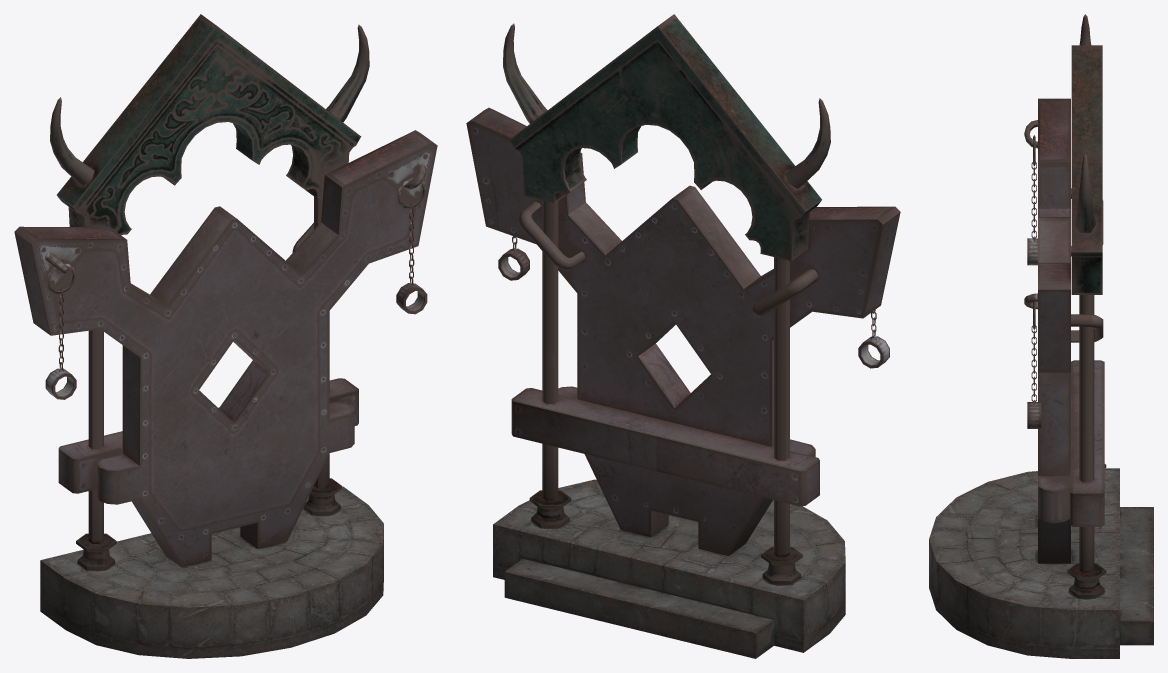
Rendered from sb_obj_DemonsCastle001_RestraintChain.fbx.
3 renders of one model, left to right at view 1: azimuth 30°, elevation 25°; view 2: azimuth 150°, elevation 25°; view 3: azimuth 270°, elevation 25°, orthographic. The views are drawn at different scales.
Parts seen in each view (by area): view 1: sb_obj_DemonsCastle001_RestraintChain; view 2: sb_obj_DemonsCastle001_RestraintChain; view 3: sb_obj_DemonsCastle001_RestraintChain.
Part boxes in pixels (bbox=[...]): sb_obj_DemonsCastle001_RestraintChain: bbox=[14, 14, 437, 658]; sb_obj_DemonsCastle001_RestraintChain: bbox=[466, 14, 900, 658]; sb_obj_DemonsCastle001_RestraintChain: bbox=[929, 14, 1153, 658].
Size of the model in its own units: 1.71 by 2.29 by 0.8592.
